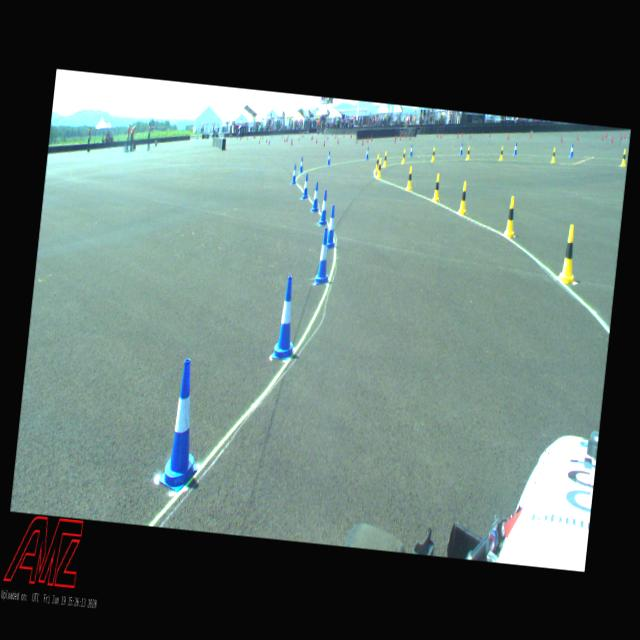blue_cone: (157, 356, 208, 494), (271, 274, 301, 360), (314, 228, 333, 284), (323, 203, 339, 248), (318, 189, 330, 226), (310, 181, 321, 212), (301, 172, 310, 200), (290, 164, 298, 184), (298, 156, 304, 173), (458, 141, 464, 156), (569, 143, 574, 158), (512, 142, 518, 154), (408, 144, 414, 156), (326, 151, 331, 165), (364, 146, 369, 160)
unknown_cone: (600, 132, 604, 140), (610, 134, 613, 144), (605, 130, 608, 138), (576, 132, 579, 140), (488, 131, 491, 137), (468, 132, 471, 138), (408, 134, 411, 140), (624, 132, 626, 140), (620, 132, 622, 140), (560, 134, 562, 142), (394, 136, 396, 144), (323, 138, 325, 146), (316, 136, 318, 144), (530, 132, 532, 139), (506, 133, 508, 140), (394, 133, 396, 140), (337, 137, 339, 144), (290, 139, 292, 146), (268, 138, 270, 145), (298, 135, 300, 142), (460, 132, 462, 138), (440, 133, 442, 139), (399, 136, 401, 142), (400, 131, 402, 137), (370, 136, 372, 142), (370, 134, 372, 140), (362, 139, 364, 145), (356, 138, 358, 144), (326, 134, 328, 140), (334, 133, 336, 139), (265, 138, 267, 144), (456, 133, 458, 138), (404, 133, 406, 138), (366, 138, 368, 142), (437, 134, 438, 138)
yellow_cone: (557, 223, 580, 283), (502, 194, 519, 238), (457, 180, 469, 216), (432, 172, 442, 202), (405, 166, 414, 190), (374, 156, 382, 180), (620, 148, 627, 167), (374, 152, 380, 172), (382, 150, 388, 168), (430, 145, 436, 162), (550, 146, 556, 163), (498, 145, 504, 161), (401, 148, 406, 164), (466, 145, 470, 160)
